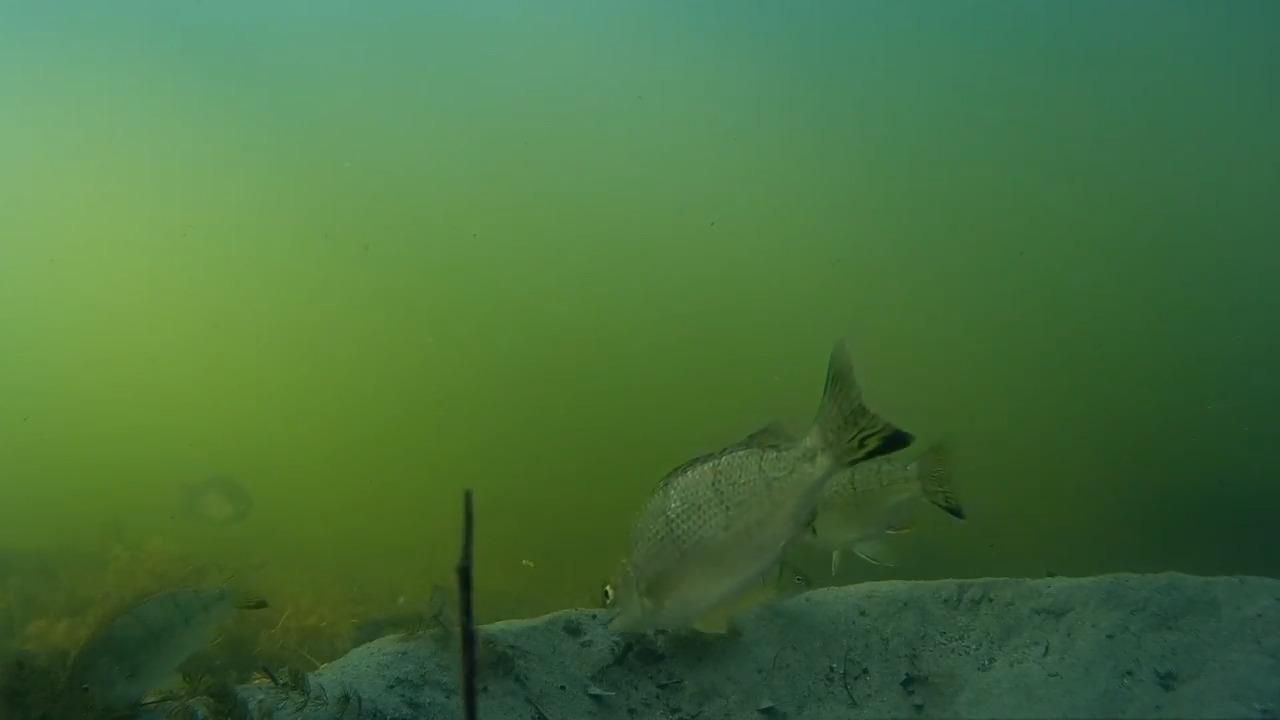Tilapia: (600, 341, 978, 625), (732, 428, 1001, 584), (18, 568, 289, 714), (163, 475, 267, 535)
